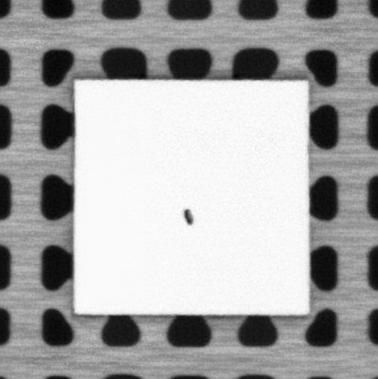DIE_INK: (182, 207, 193, 226)
